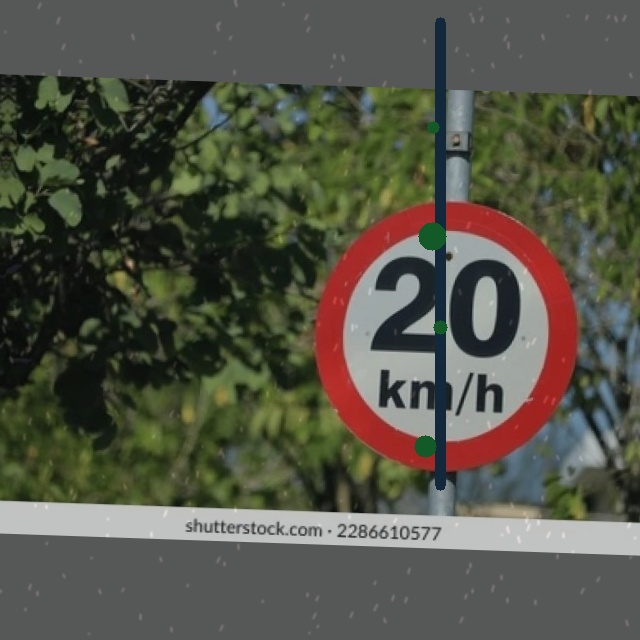Speed_Limit_20: (317, 201, 584, 477)
